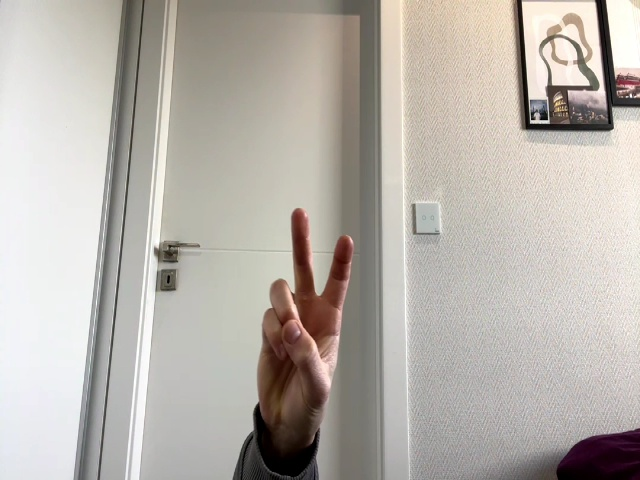H: (257, 209, 354, 431)
